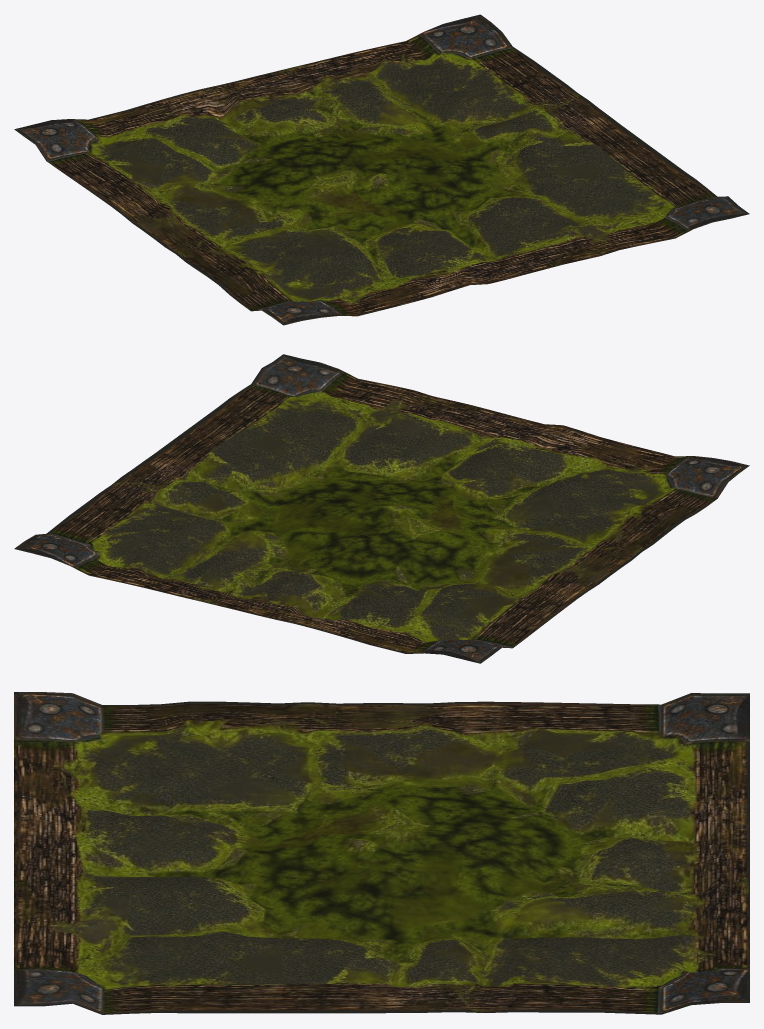
File: prison-floor-2.glb
3 renders of one model, top to bottom at view 1: azimuth 30°, elevation 25°; view 2: azimuth 150°, elevation 25°; view 3: azimuth 270°, elevation 25°, orthographic. The views are drawn at different scales.
Visible parts, largest first — view 1: floortile2; view 2: floortile2; view 3: floortile2.
Part boxes in pixels (x1,y1,x2,y2): floortile2: (14, 14, 749, 325); floortile2: (14, 354, 749, 663); floortile2: (14, 692, 749, 1014).
Bounding box in the file's own units: 2 × 0.0928 × 2.
1 material, 1 textured.
